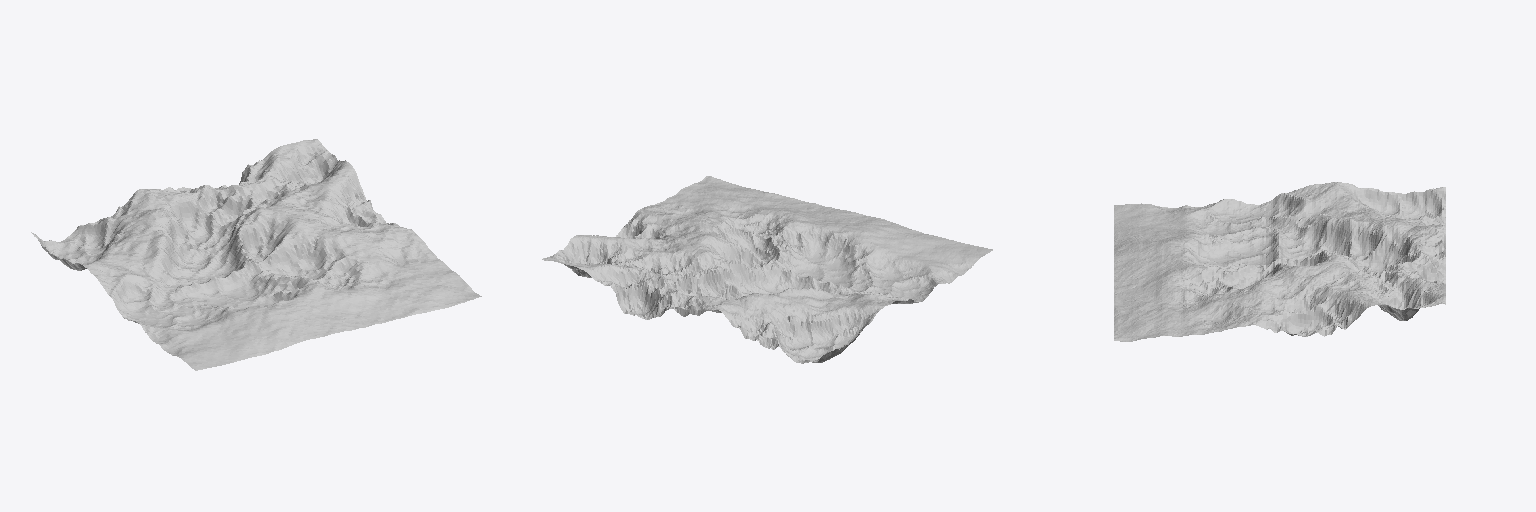
File: Terrain.obj
The picture shows the model from 3 angles: view 1: azimuth 30°, elevation 25°; view 2: azimuth 150°, elevation 25°; view 3: azimuth 270°, elevation 25°; orthographic projection.
Parts seen in each view (by area): view 1: Terrain_50000; view 2: Terrain_50000; view 3: Terrain_50000.
Boxes of the visible parts, box(x1,y1,x2,y2) form: Terrain_50000: box(31, 139, 481, 370); Terrain_50000: box(542, 176, 992, 363); Terrain_50000: box(1114, 182, 1445, 341).
Size of the model in its own units: 159 by 24.68 by 159.